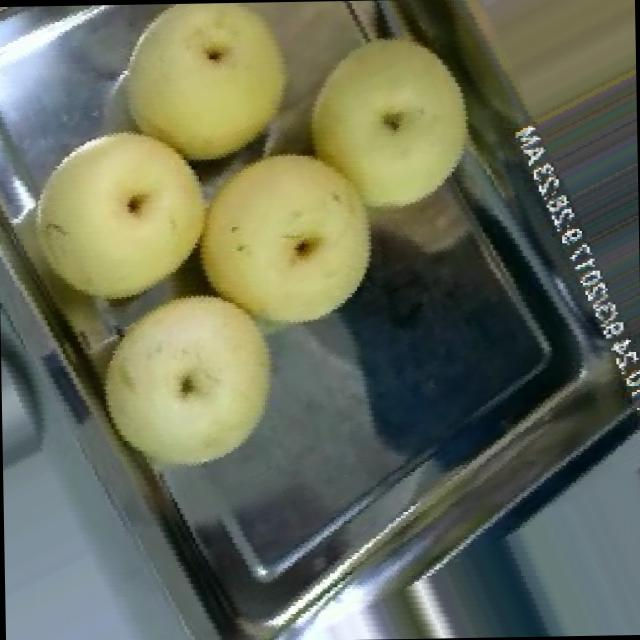Fruit: (168, 114, 405, 354), (93, 0, 382, 192), (0, 99, 235, 329), (279, 0, 499, 235), (78, 260, 296, 490), (426, 0, 637, 168)
